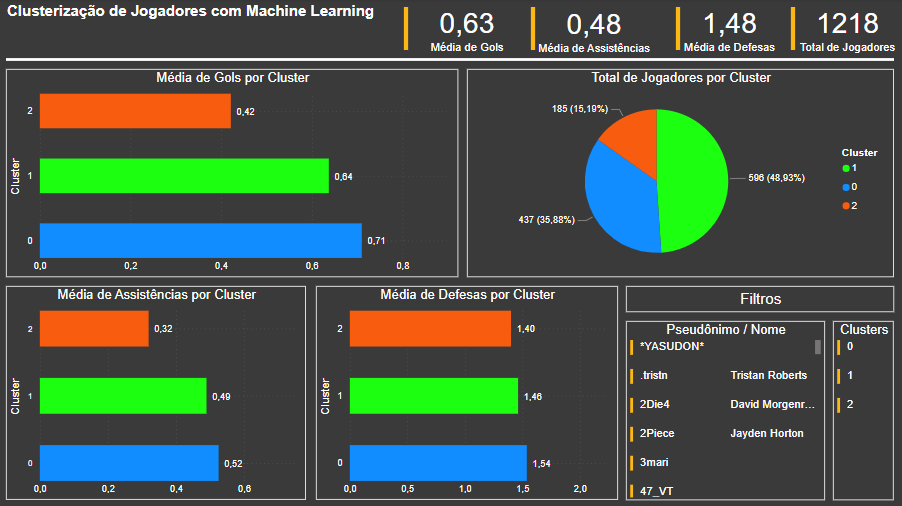

The page's visual inventory and layout, read from the dashboard file:
{"tool":"powerbi","page":{"name":"Página 1","canvas":[1280,720],"ordinal":0},"visuals":[{"type":"pieChart","title":"Total de Jogadores por Cluster","fields":{"Category":["clusters.cluster"],"Y":["CountNonNull(clusters.stt_jgd_id)"]},"box":[663.3,99.2,605.2,294.8],"z":0},{"type":"clusteredBarChart","title":"Média de Gols por Cluster","fields":{"Category":["clusters.cluster"],"Y":["Avg(clusters.stt_gols)"]},"box":[9.9,99.2,640.6,294.8],"z":1000},{"type":"clusteredBarChart","title":"Média de Assistências por Cluster","fields":{"Y":["Avg(clusters.stt_assistencias)"],"Category":["clusters.cluster"]},"box":[9.9,406.8,425.2,303.3],"z":2000},{"type":"clusteredBarChart","title":"Média de Defesas por Cluster","fields":{"Y":["Avg(clusters.stt_defesas)"],"Category":["clusters.cluster"]},"box":[449.3,406.8,428,303.3],"z":3000},{"type":"textbox","box":[0,0,542.8,72.3],"z":4000},{"type":"card","fields":{"Values":["CountNonNull(clusters.stt_jgd_id)"]},"box":[1125.4,0,154.5,82.2],"z":5000},{"type":"shape","box":[1108.3,11.3,34,60.9],"z":6000},{"type":"card","fields":{"Values":["Avg(clusters.stt_defesas)"]},"box":[962.4,0,146,82.2],"z":7000},{"type":"shape","box":[945.4,11.3,34,60.9],"z":8000},{"type":"card","fields":{"Values":["Avg(clusters.stt_assistencias)"]},"box":[756.9,1.4,172.9,82.2],"z":9000},{"type":"shape","box":[559.8,11.3,34,60.9],"z":10000},{"type":"shape","box":[739.8,11.3,34,60.9],"z":11000},{"type":"card","fields":{"Values":["Avg(clusters.stt_gols)"]},"box":[593.9,0,138.9,82.2],"z":12000},{"type":"shape","box":[9.9,72.3,1258.6,26.9],"z":13000},{"type":"multiRowCard","title":"Pseudônimo / Nome","fields":{"Values":["jogadoresV28.jgd_tag","jogadoresV28.jgd_nome"]},"box":[888.7,456.4,282,253.7],"z":14000},{"type":"multiRowCard","title":"Clusters","fields":{"Values":["clusters.cluster"]},"box":[1182,456.4,86.5,253.7],"z":15000},{"type":"textbox","box":[888.7,406.8,379.8,36.9],"z":16000}]}

Visuals, with their boxes in screenshot pixels (x1, y1, x2, y2), scaled from the page's 1280x720 canvas onto the 902x506 screenshot:
"Total de Jogadores por Cluster" pieChart: bbox(467, 70, 894, 277)
"Média de Gols por Cluster" clusteredBarChart: bbox(7, 70, 458, 277)
"Média de Assistências por Cluster" clusteredBarChart: bbox(7, 286, 307, 499)
"Média de Defesas por Cluster" clusteredBarChart: bbox(317, 286, 618, 499)
textbox: bbox(0, 0, 383, 51)
card - CountNonNull(clusters.stt_jgd_id): bbox(793, 0, 901, 58)
shape: bbox(781, 8, 805, 51)
card - Avg(clusters.stt_defesas): bbox(678, 0, 781, 58)
shape: bbox(666, 8, 690, 51)
card - Avg(clusters.stt_assistencias): bbox(533, 1, 655, 59)
shape: bbox(394, 8, 418, 51)
shape: bbox(521, 8, 545, 51)
card - Avg(clusters.stt_gols): bbox(419, 0, 516, 58)
shape: bbox(7, 51, 894, 70)
"Pseudônimo / Nome" multiRowCard: bbox(626, 321, 825, 499)
"Clusters" multiRowCard: bbox(833, 321, 894, 499)
textbox: bbox(626, 286, 894, 312)
